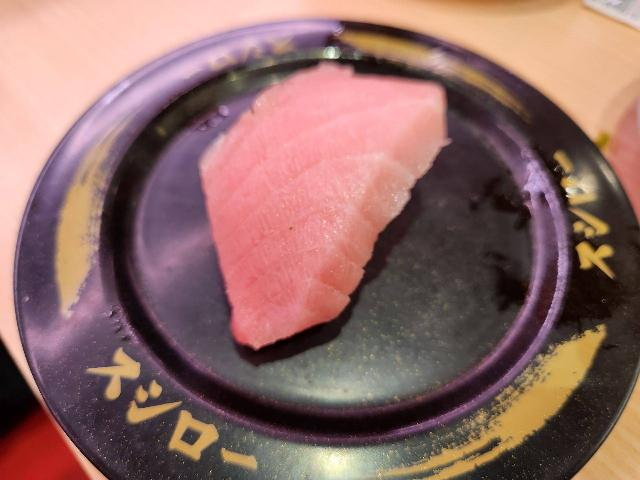janback: (50, 25, 640, 476)
